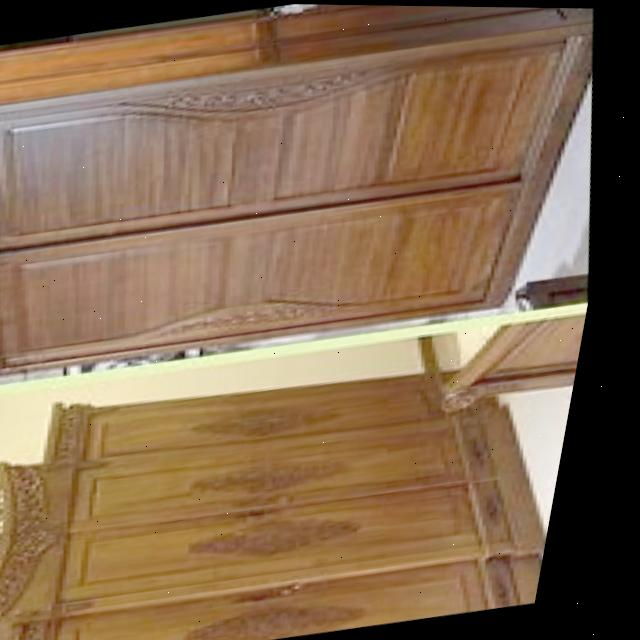dolap: (0, 0, 639, 396), (0, 325, 594, 640)
